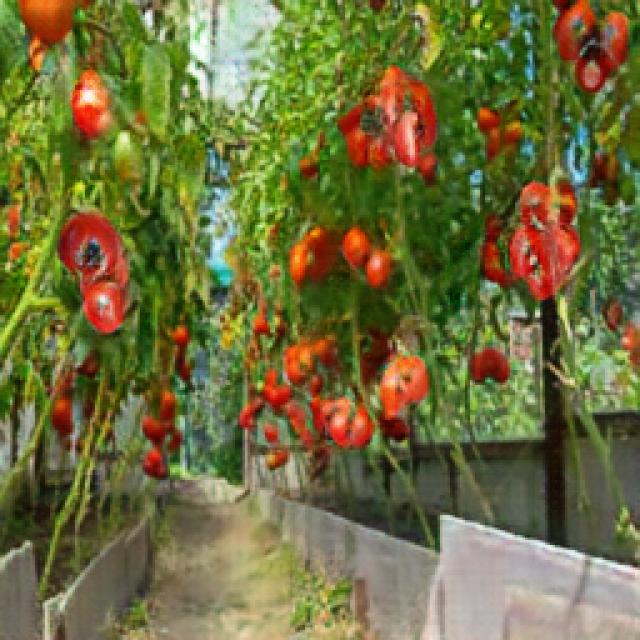overripe tomato: (52, 214, 118, 280), (503, 223, 546, 276), (554, 6, 595, 56)
